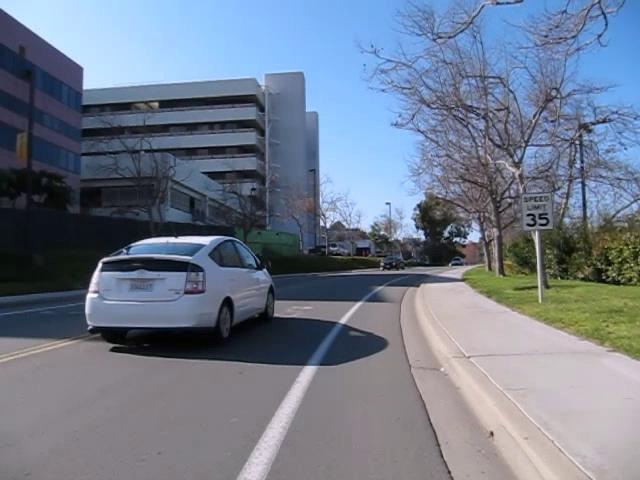speedLimit35: (520, 190, 554, 231)
